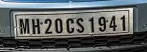0: (54, 18, 64, 34)
1: (88, 17, 96, 33), (120, 14, 127, 32)
2: (43, 19, 54, 34)
4: (109, 15, 118, 32)
9: (98, 16, 107, 33)
C: (66, 18, 75, 34)
H: (32, 18, 42, 35)
M: (18, 18, 31, 35)
S: (76, 18, 86, 34)
